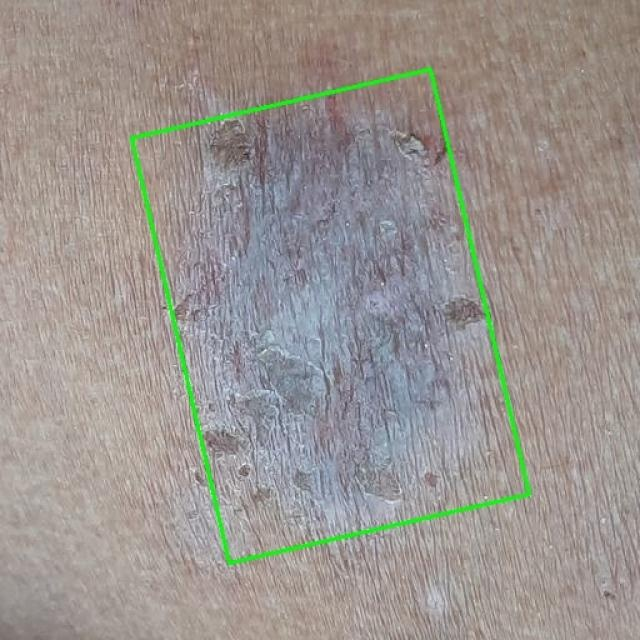Seborrheic Dermatitis: (131, 69, 529, 563)
